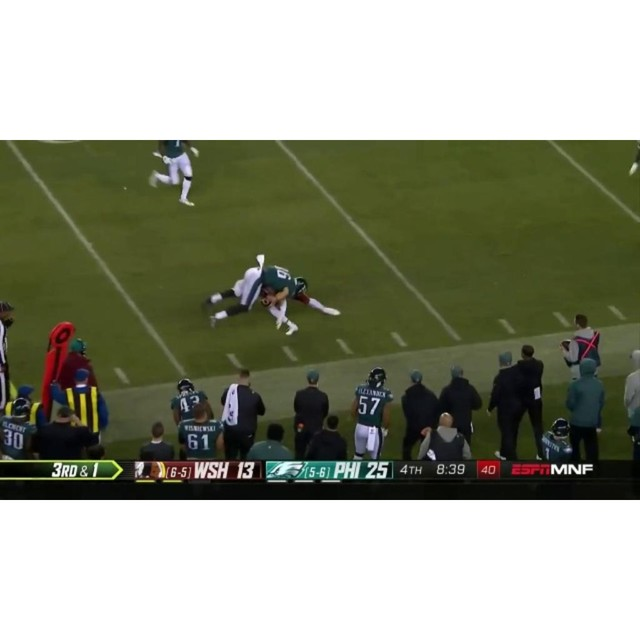american-football-player: (147, 140, 202, 208)
